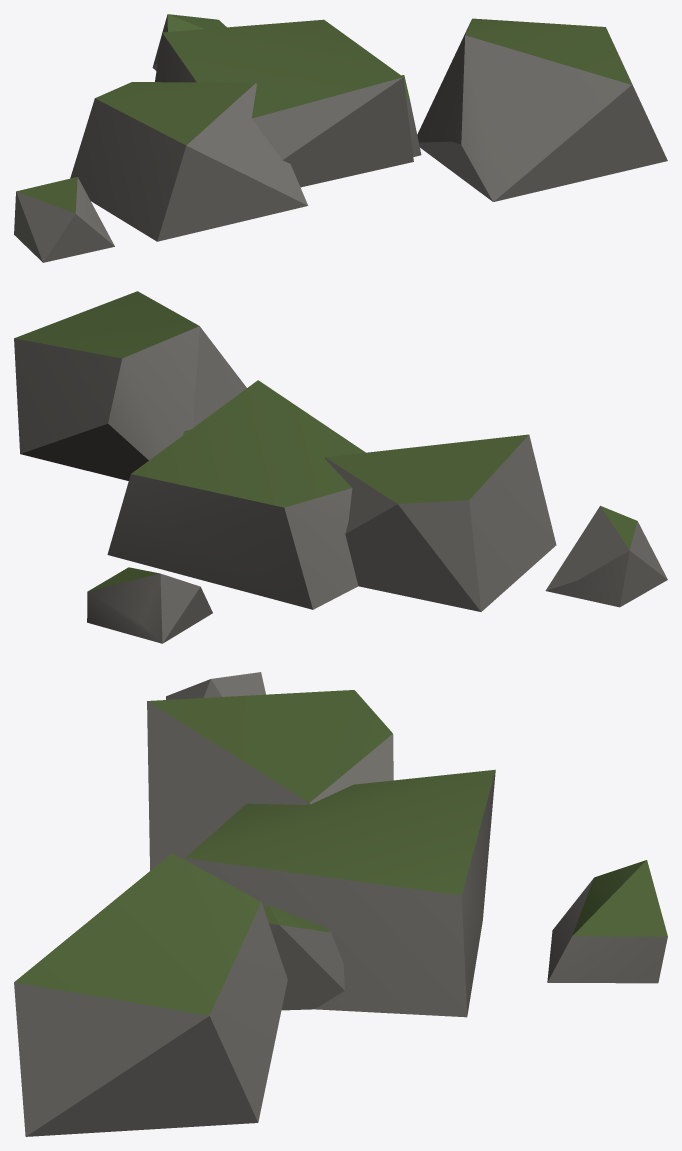
File: RockRubble.fbx
3 renders of one model, top to bottom at view 1: azimuth 30°, elevation 25°; view 2: azimuth 150°, elevation 25°; view 3: azimuth 270°, elevation 25°, orthographic. The views are drawn at different scales.
Parts seen in each view (by area): view 1: RockRubble; view 2: RockRubble; view 3: RockRubble.
Boxes of the visible parts, x1,y1,x2,y2 form: RockRubble: (14, 14, 667, 262); RockRubble: (14, 291, 667, 643); RockRubble: (14, 672, 667, 1136).
Bounding box in the file's own units: 1.41 × 0.2937 × 0.9755.
